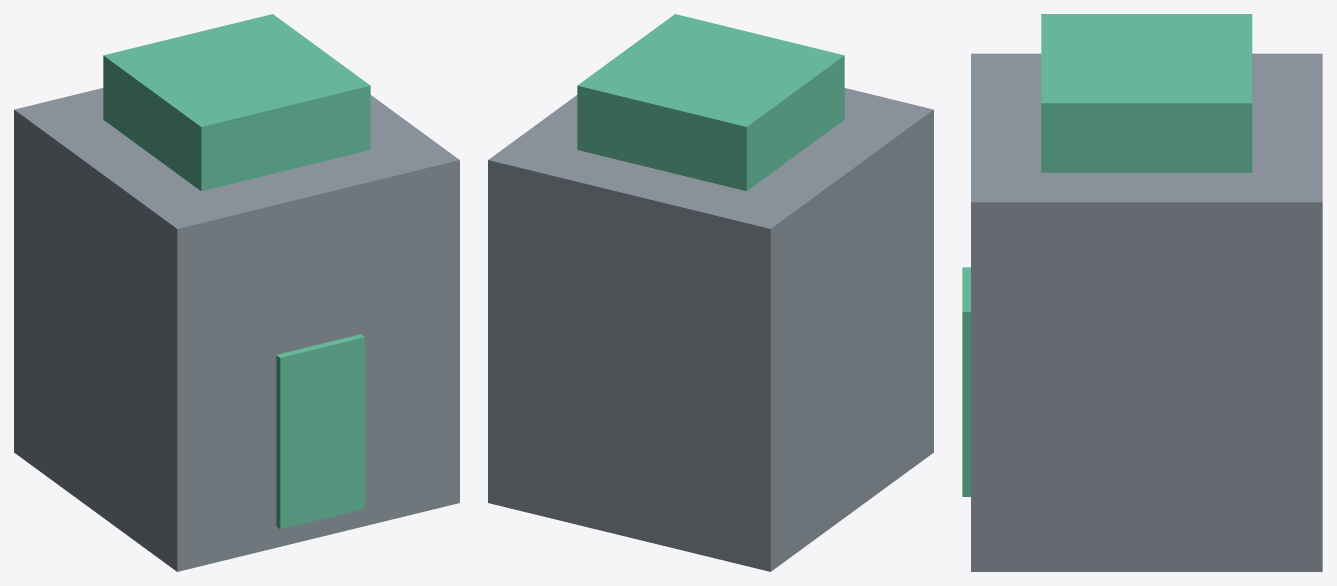
Rendered from CO_RailTower_LOD0.glb.
The picture shows the model from 3 angles, left to right: view 1: azimuth 30°, elevation 25°; view 2: azimuth 150°, elevation 25°; view 3: azimuth 270°, elevation 25°; orthographic projection. The views are drawn at different scales.
Parts seen in each view (by area): view 1: EntranceGate; view 2: EntranceGate; view 3: EntranceGate.
Boxes of the visible parts, box(x1,y1,x2,y2) form: EntranceGate: box(14, 14, 459, 571); EntranceGate: box(488, 14, 933, 571); EntranceGate: box(962, 14, 1322, 571).
Bounding box in the file's own units: 400 × 551 × 410.
